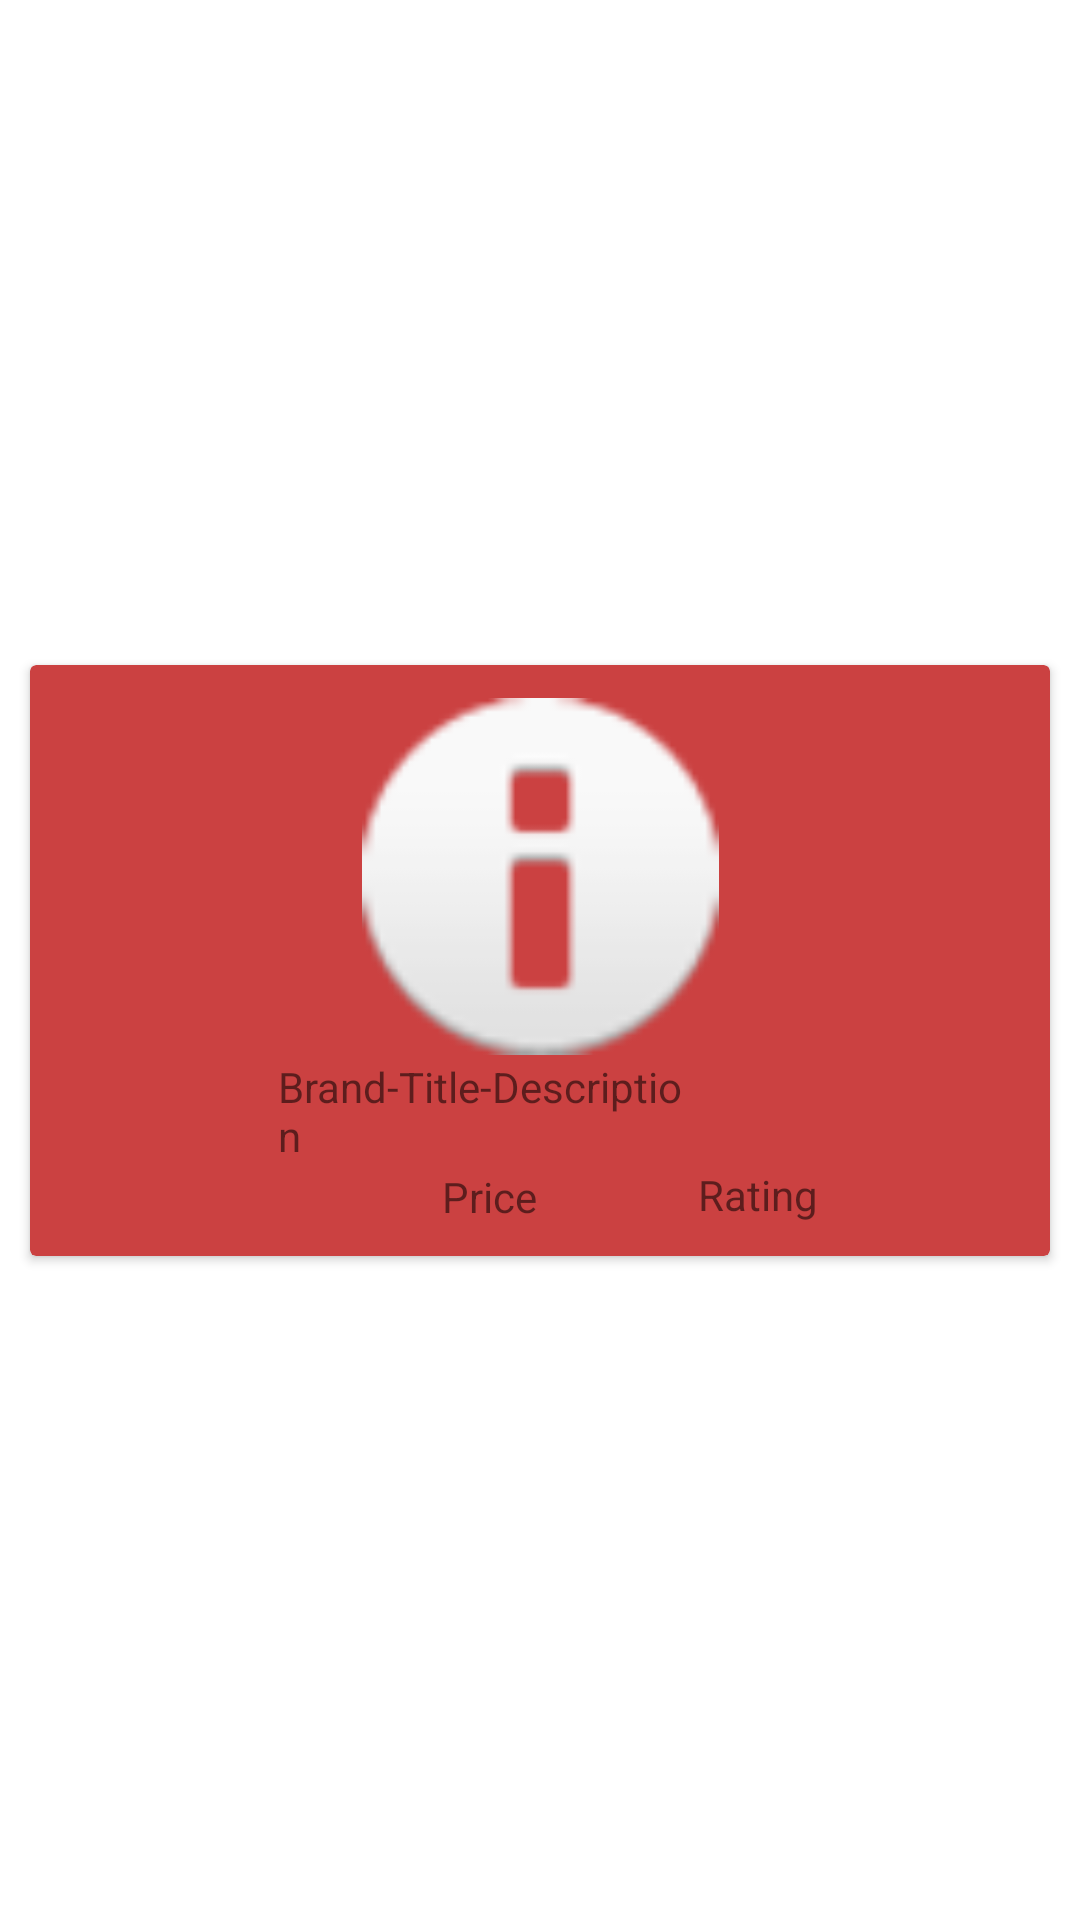

Locate icon controls on the screen. Image size 1080px×1920px, boxes as Rect(x1, y1, x2, y2).
info: Rect(362, 698, 719, 1055)
